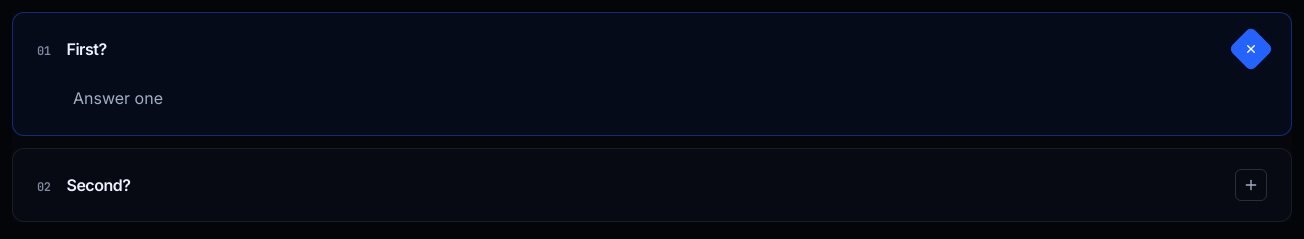
Test: Accordion › toggles panels with correct ARIA state
Click the button "02 Second?": click(98, 185) [13,149,1291,221]
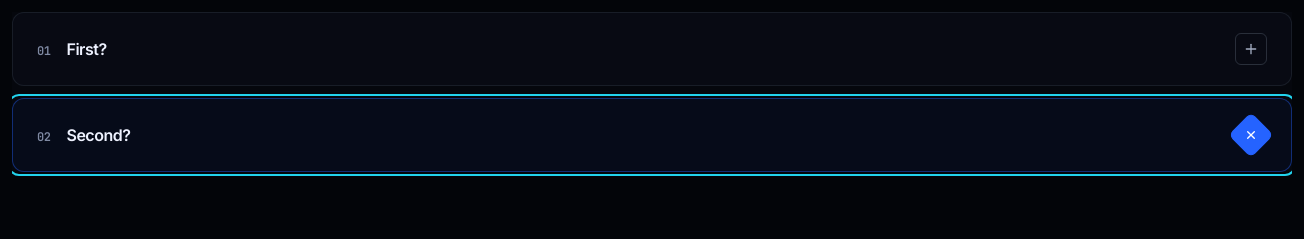
Now the button "02 Second?" is expanded, box [13,99,1291,171]
Now the button "01 First?" is collapsed, box [13,13,1291,85]
